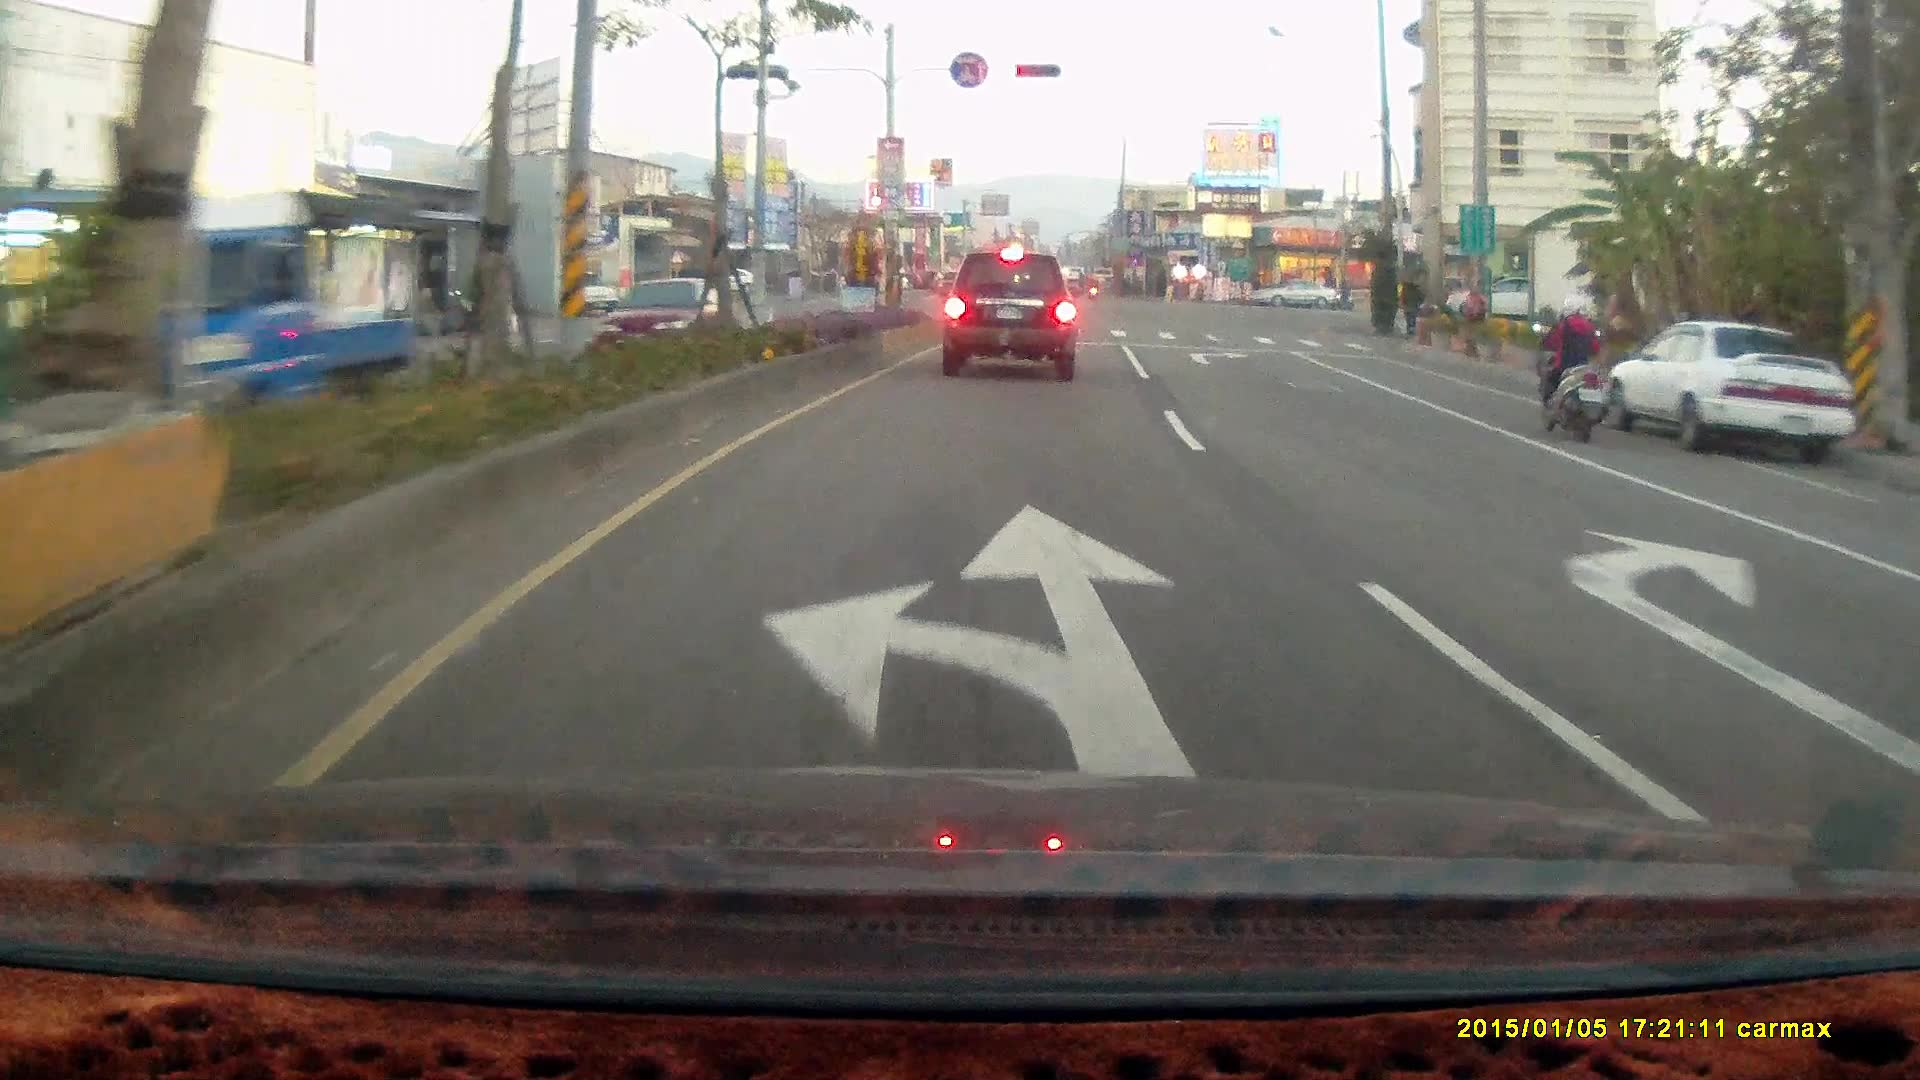rider: (1529, 291, 1611, 442), (1327, 274, 1354, 312)
vehicle: (54, 193, 413, 443), (1596, 319, 1860, 466), (1597, 323, 1863, 465), (939, 252, 1078, 383), (1896, 493, 1920, 836), (1883, 528, 1920, 690), (1445, 274, 1558, 324), (1245, 274, 1339, 308)
